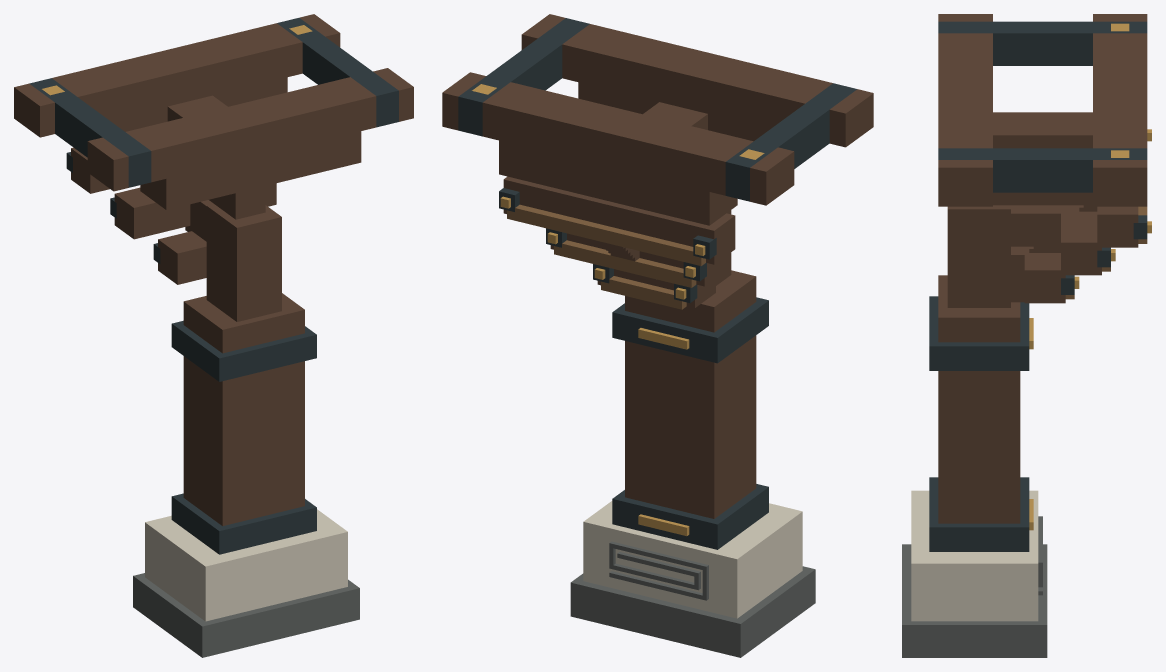
File: BUILT-072.glb
3 renders of one model, left to right at view 1: azimuth 30°, elevation 25°; view 2: azimuth 150°, elevation 25°; view 3: azimuth 270°, elevation 25°, orthographic. The views are drawn at different scales.
Parts seen in each view (by area): view 1: 旧亭柱脚与斗拱细部; view 2: 旧亭柱脚与斗拱细部; view 3: 旧亭柱脚与斗拱细部.
Part boxes in pixels (bbox=[...]): 旧亭柱脚与斗拱细部: bbox=[14, 14, 413, 657]; 旧亭柱脚与斗拱细部: bbox=[442, 14, 873, 657]; 旧亭柱脚与斗拱细部: bbox=[902, 14, 1151, 657].
Size of the model in its own units: 1.6 by 2.56 by 1.1.
Materials: 6 (6 with a texture image).
